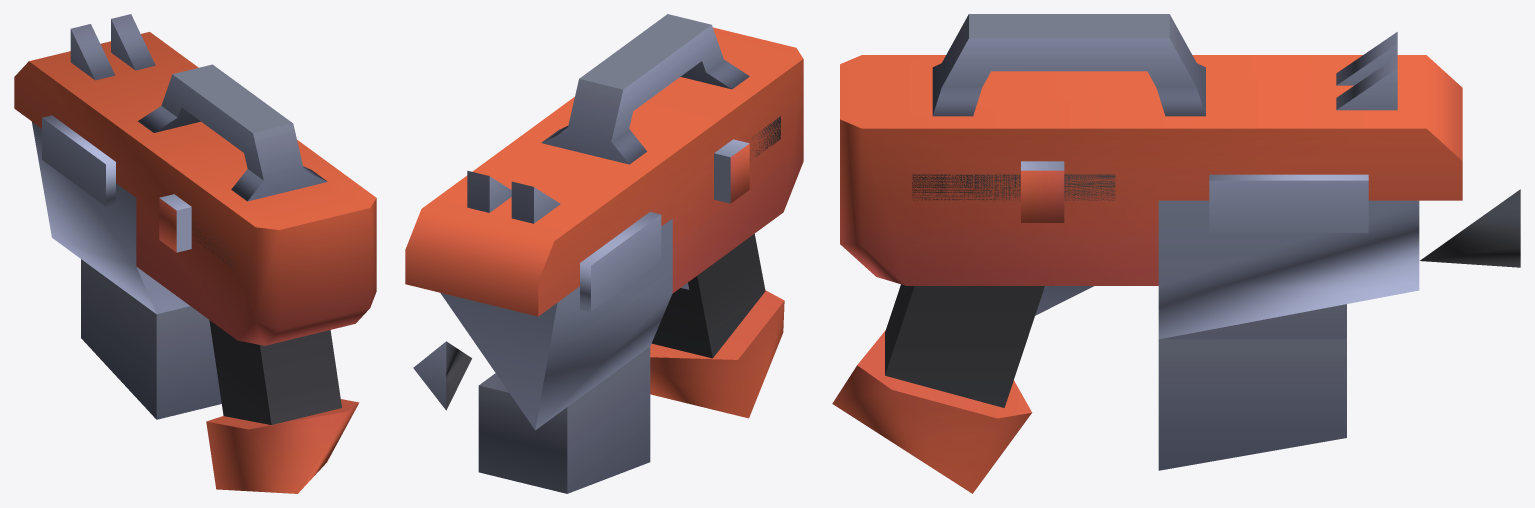
File: blaster-c.glb
3 renders of one model, left to right at view 1: azimuth 30°, elevation 25°; view 2: azimuth 150°, elevation 25°; view 3: azimuth 270°, elevation 25°, orthographic. The views are drawn at different scales.
Parts seen in each view (by area): view 1: blaster-c; view 2: blaster-c; view 3: blaster-c.
Boxes of the visible parts, left/top/right/bottom form: blaster-c: left=14, top=14, right=376, bottom=493; blaster-c: left=405, top=14, right=803, bottom=493; blaster-c: left=832, top=14, right=1520, bottom=493.
Bounding box in the file's own units: 0.15 × 0.3307 × 0.4754.
1 material, 1 textured.
